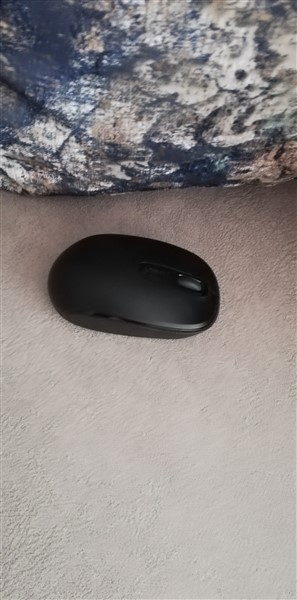mouse: (42, 231, 224, 343)
